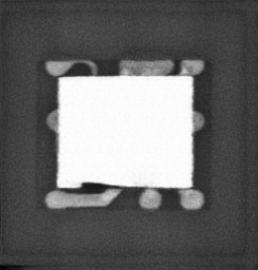DIE_BROKEN: (76, 179, 120, 188)
